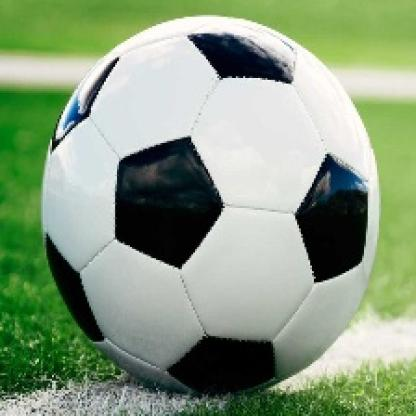ball: (39, 15, 379, 392)
